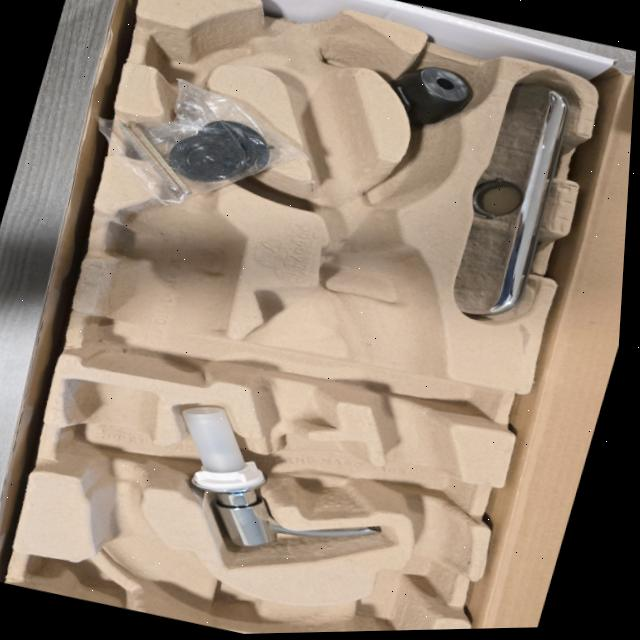1m: (68, 0, 470, 634)
2: (183, 406, 379, 548)
3m: (81, 170, 249, 386)
4: (454, 84, 566, 314)
5: (392, 65, 475, 126)
6m: (139, 18, 260, 86)
7: (91, 76, 312, 208)
